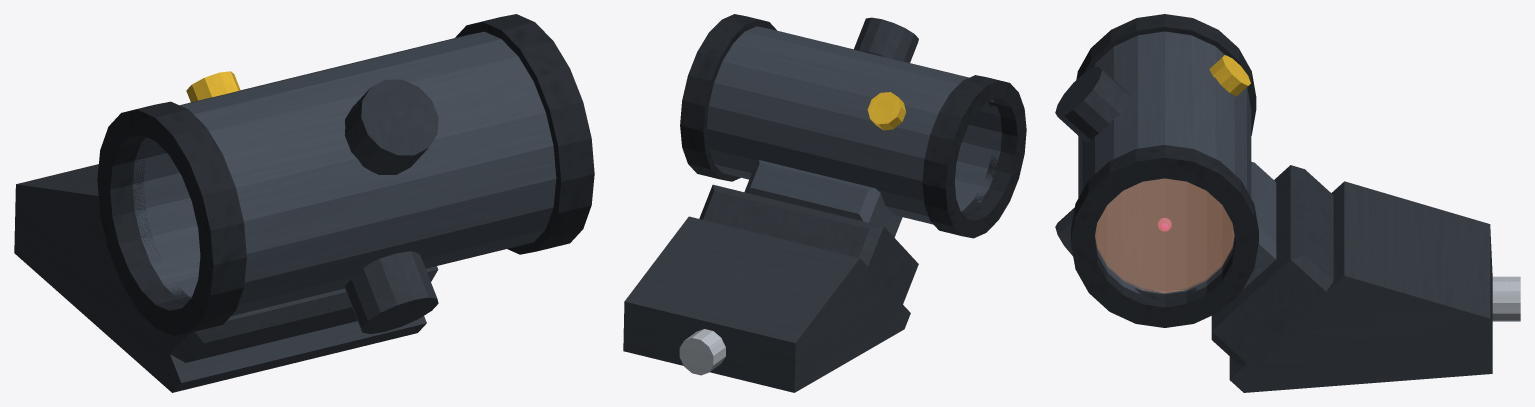
Rendered from sight_red_dot_canted_v2.glb.
3 views of the same model, side by side, from view 1: azimuth 30°, elevation 25°; view 2: azimuth 150°, elevation 25°; view 3: azimuth 270°, elevation 25° (orthographic). The views are drawn at different scales.
Parts seen in each view (by area): view 1: sight_red_dot_canted_mesh; view 2: sight_red_dot_canted_mesh; view 3: sight_red_dot_canted_mesh.
Part boxes in pixels (left/top/right/bottom): sight_red_dot_canted_mesh: left=14, top=14, right=594, bottom=392; sight_red_dot_canted_mesh: left=623, top=14, right=1026, bottom=392; sight_red_dot_canted_mesh: left=1055, top=14, right=1520, bottom=392.
Size of the model in its own units: 0.068 by 0.0598 by 0.0916.
Materials: 8 (6 with a texture image).
